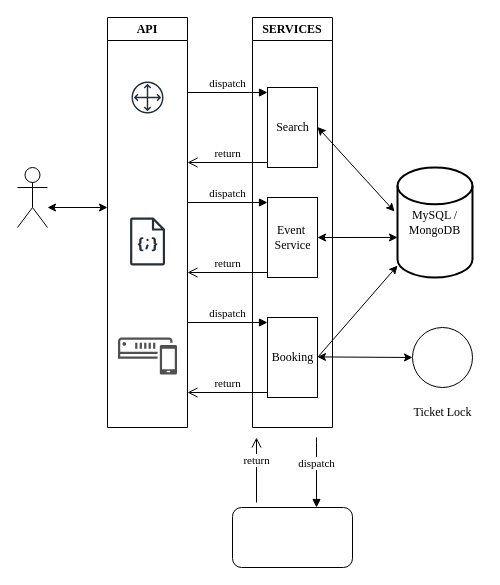
Some shapes in this 500 by 585 pixel diagram are drawn without their labels. The centre of each missing label's shape, as x and y in pixels:
"Client" belongs at [32,197].
"Customer gateway" belongs at [147,97].
"Payment" belongs at [292,537].
